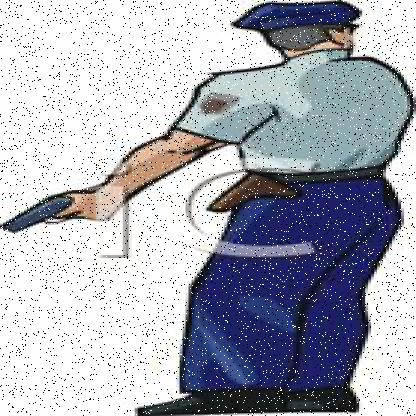pistol: (3, 194, 84, 234)
